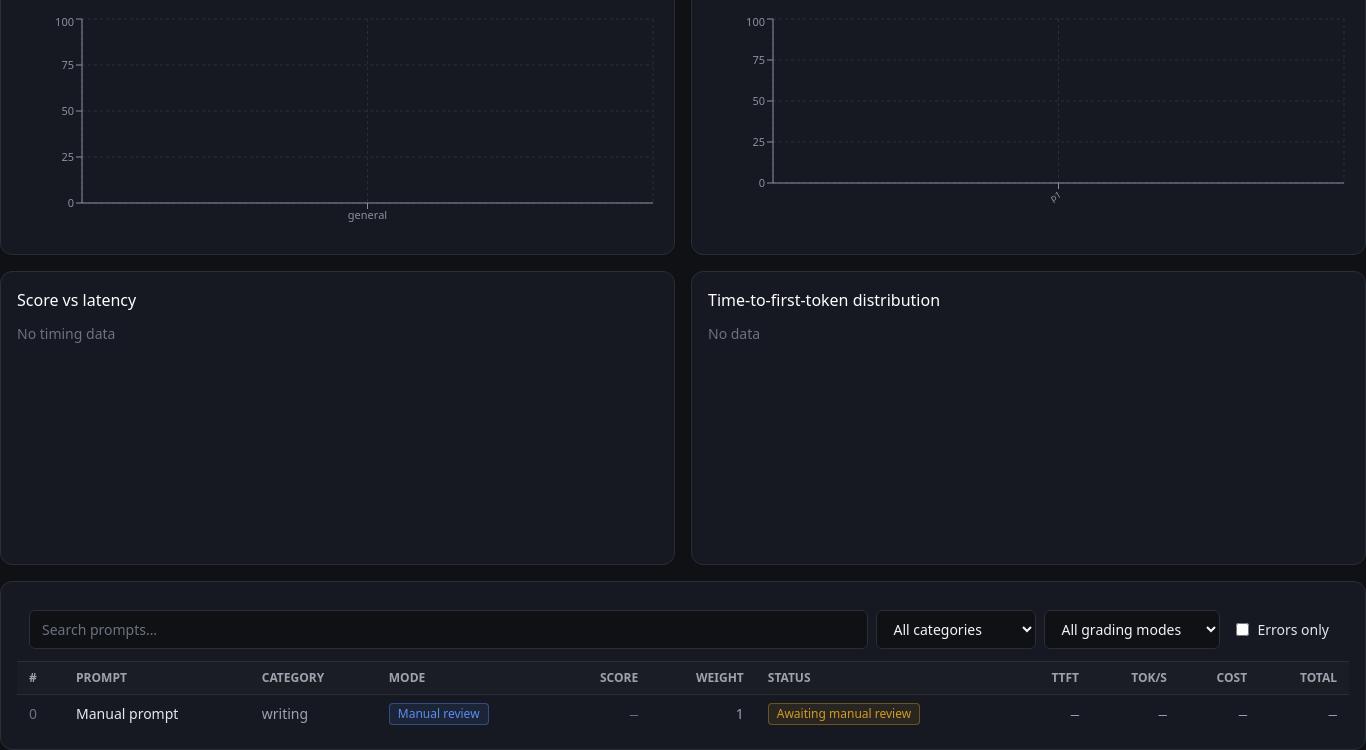
Test: Results summary and manual override › shows an incomplete endpoint stream separately from an empty answer
(page scrolled)
Click the text "Manual prompt": (157, 714) [64,694,250,733]
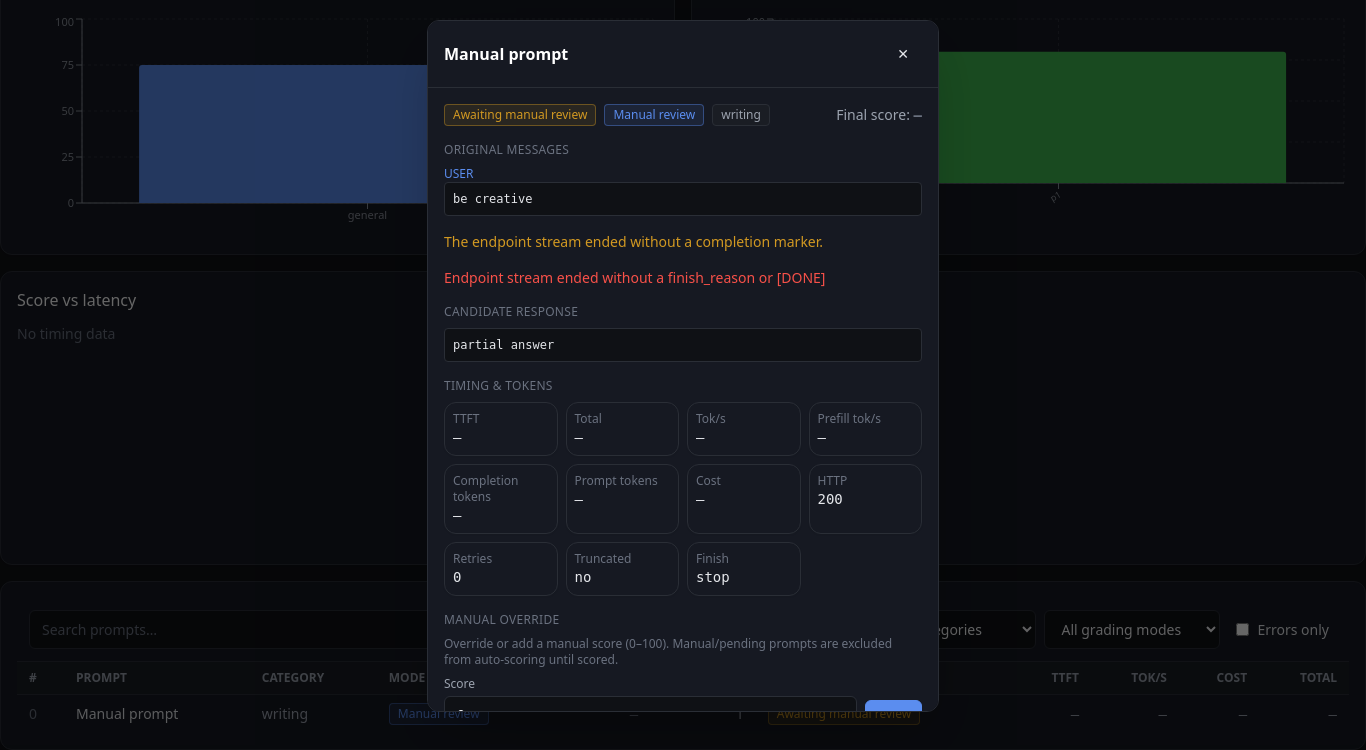
Expected: the text "The endpoint stream ended without a completion marker." is shown, [444,232,823,251]
Expected: the text "partial answer" is shown, [444,328,922,362]
